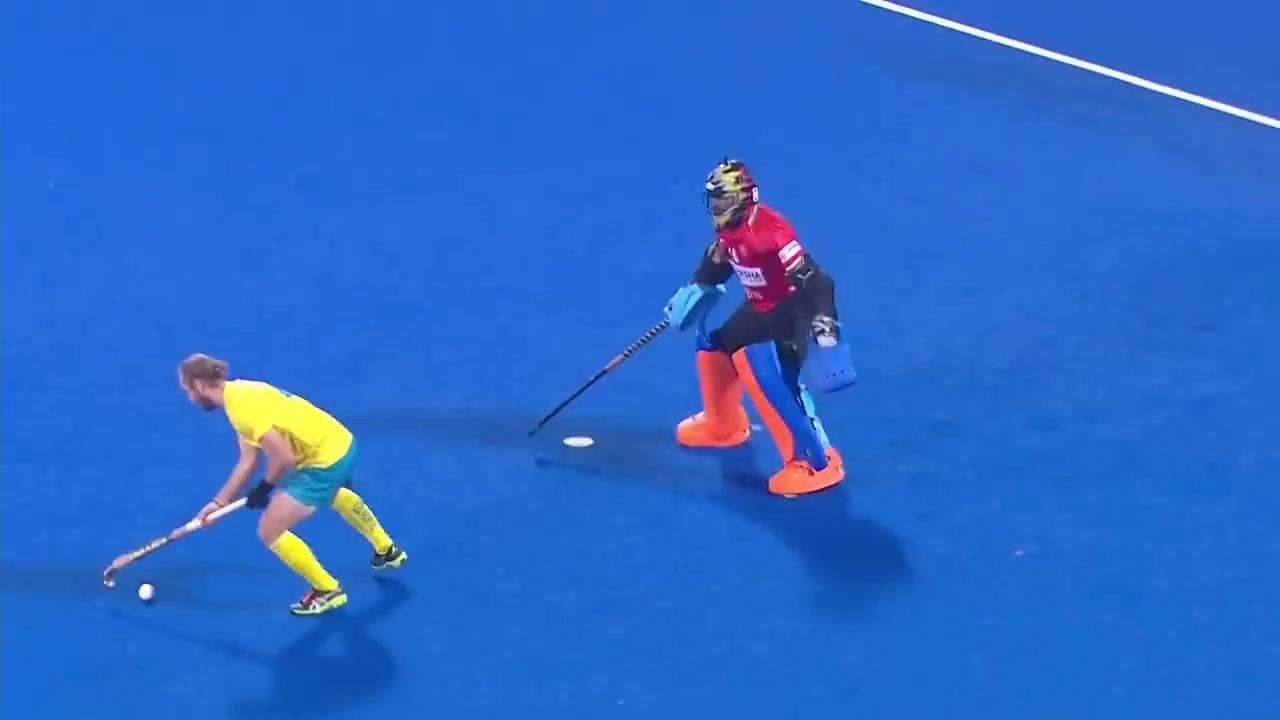ball: (110, 564, 173, 626)
